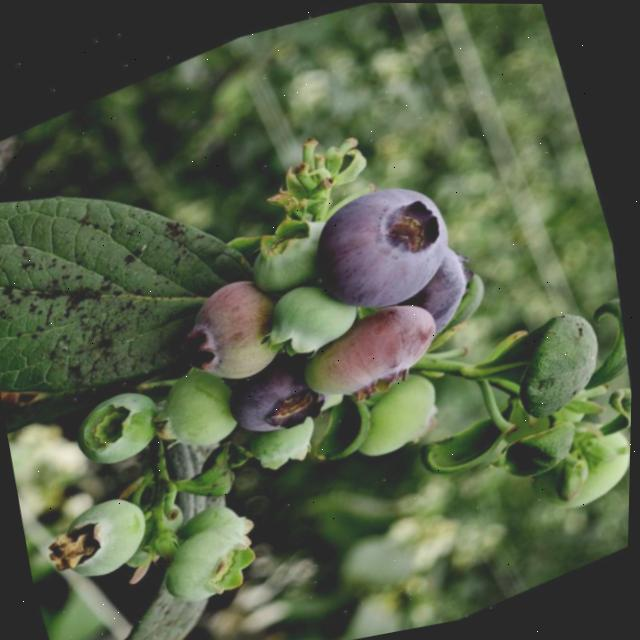RipeBlueBerry: (292, 156, 479, 334), (218, 336, 344, 448)
Semi-RipeBlueBerry: (288, 284, 462, 418), (169, 258, 300, 395)
UnripeBlueBerry: (45, 473, 171, 586), (140, 344, 258, 463), (257, 256, 379, 367)
